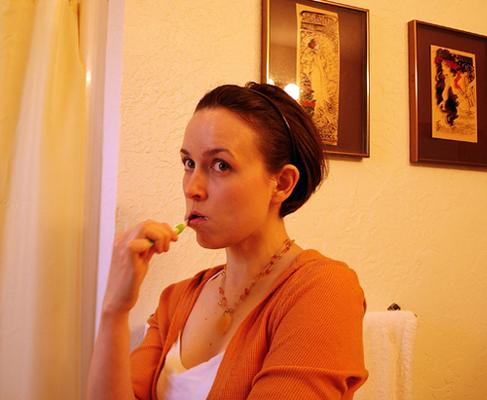person: (83, 82, 372, 397)
